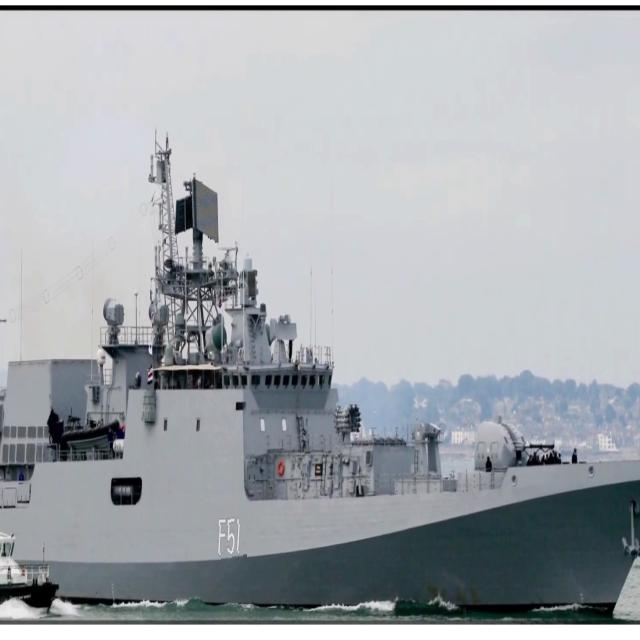OCR: (213, 512, 247, 564)
